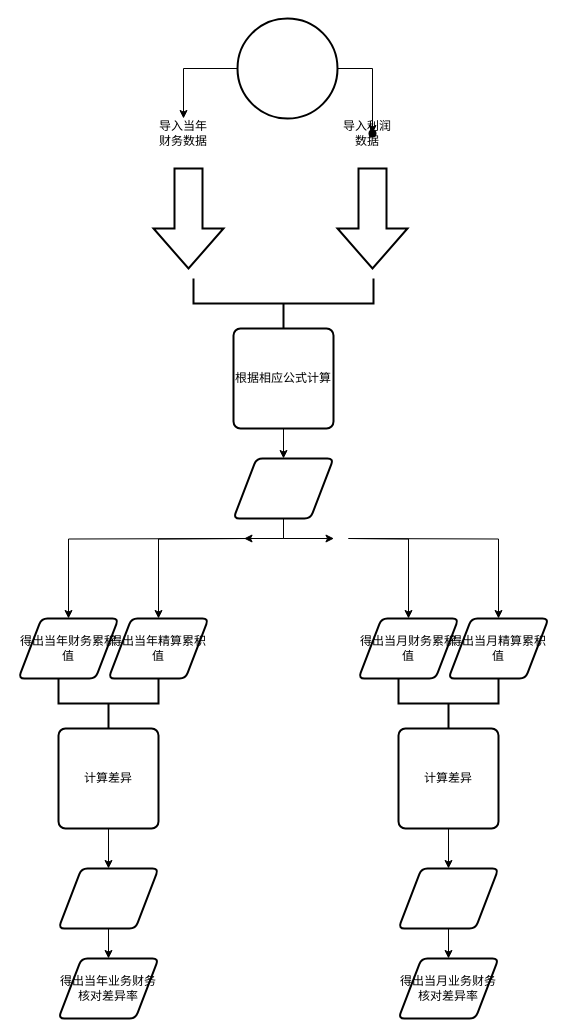
This 566x1036 diagram has some shape labels left out. The box of each missing label's shape, as (x1, y1, x2, y2) in pixels:
开始: (236, 17, 338, 119)
得出当年业务财务核对差异: (57, 867, 159, 929)
得出当月业务财务核对差异: (397, 867, 499, 929)
得出核对明细数据: (232, 457, 334, 519)
